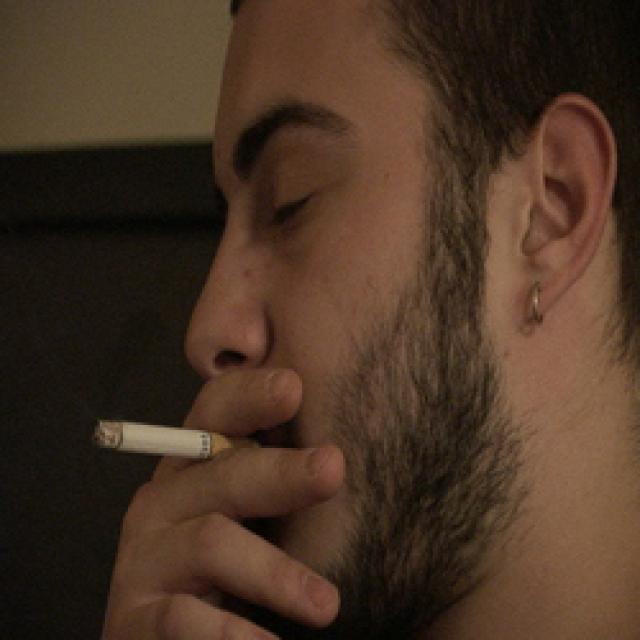Smooking: (93, 412, 242, 468)
